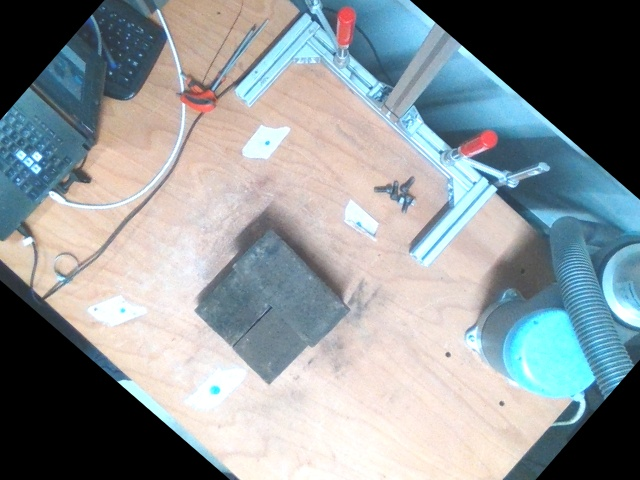brick: (235, 232, 348, 345)
